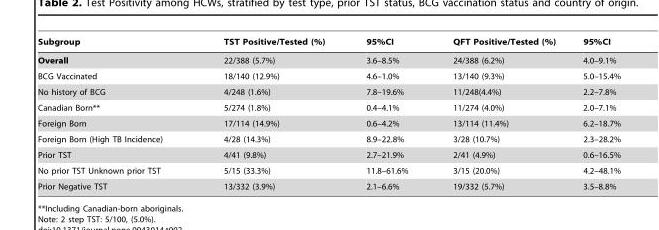table: (37, 37, 620, 190)
table column: (37, 37, 192, 190), (192, 37, 344, 190), (429, 37, 568, 190), (344, 37, 429, 190), (568, 37, 620, 190)
table column header: (37, 37, 620, 50)
table row: (37, 50, 620, 68), (37, 83, 620, 99), (37, 99, 620, 115), (37, 115, 620, 131), (37, 146, 620, 162), (37, 162, 620, 178), (37, 68, 620, 83), (37, 131, 620, 146), (37, 37, 620, 50), (37, 178, 620, 190)
